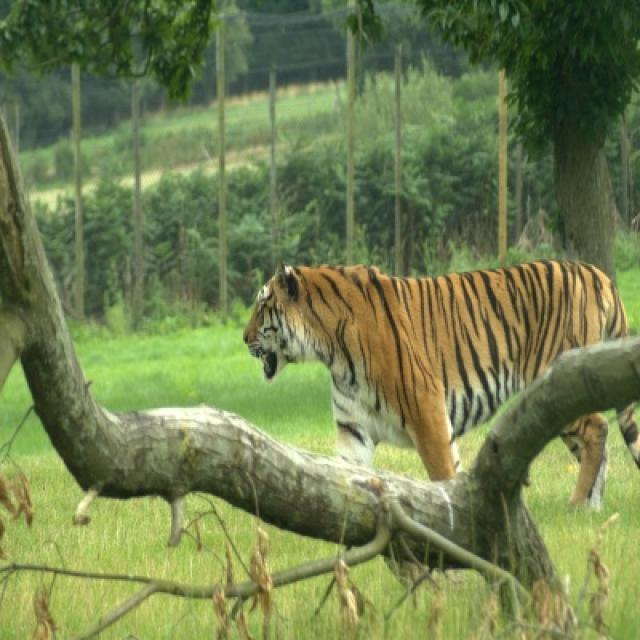Tiger: (238, 256, 630, 511)
